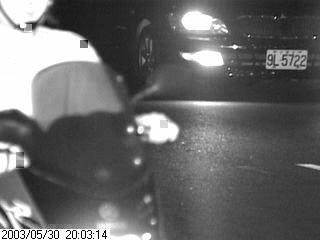plate: (265, 49, 309, 72)
